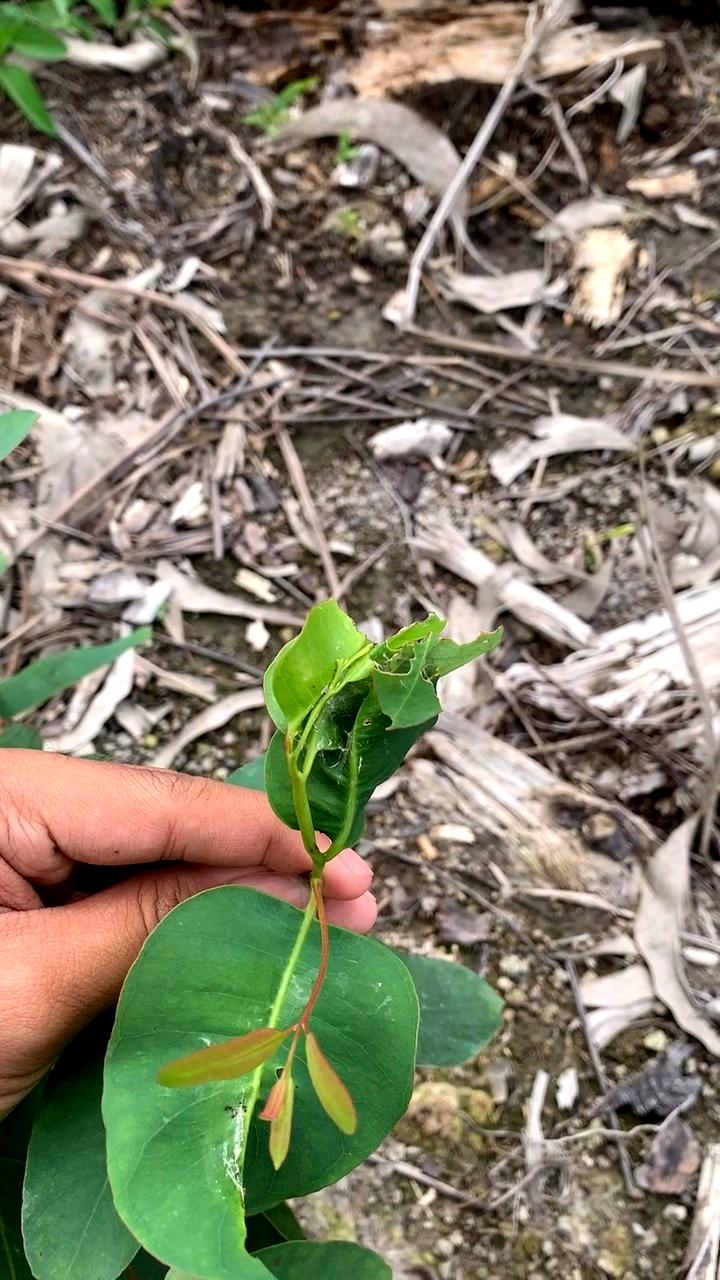Leaf Roller - Leaf: (249, 573, 525, 872)
